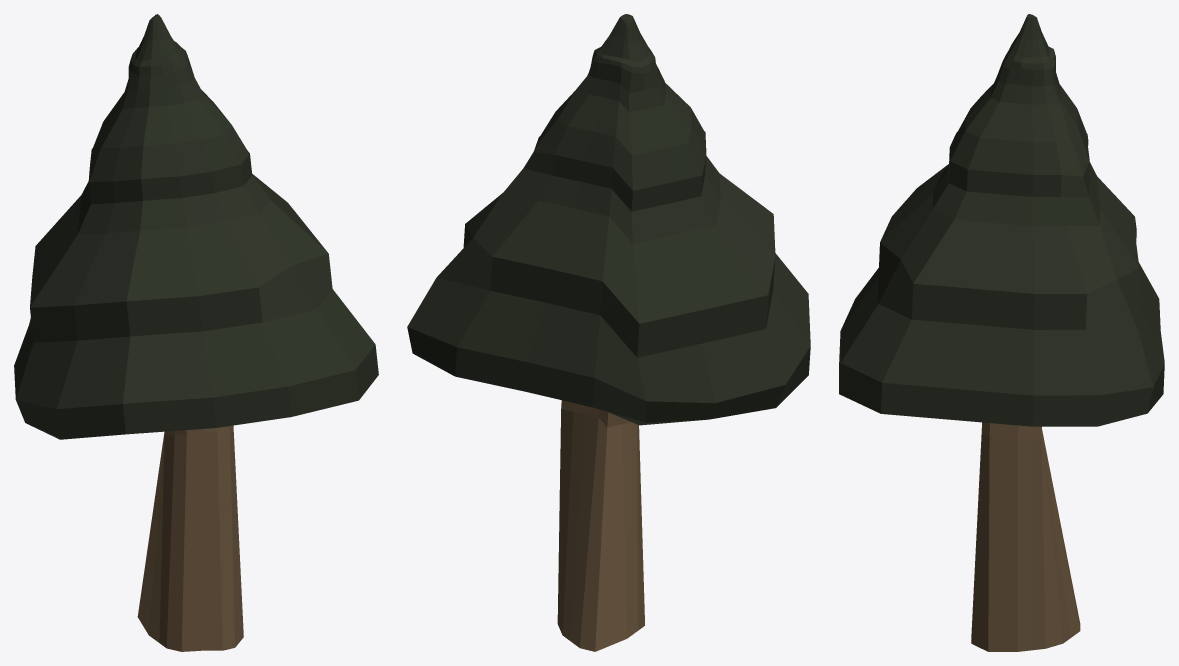
The model's file is Pine_Tree.fbx.
The picture shows the model from 3 angles, left to right: view 1: azimuth 30°, elevation 25°; view 2: azimuth 150°, elevation 25°; view 3: azimuth 270°, elevation 25°; orthographic projection. The views are drawn at different scales.
Parts seen in each view (by area): view 1: Pine Tree 1; view 2: Pine Tree 1; view 3: Pine Tree 1.
Part boxes in pixels (x1,y1,x2,y2): Pine Tree 1: (14, 14, 378, 651); Pine Tree 1: (407, 14, 810, 651); Pine Tree 1: (839, 14, 1164, 651).
Size of the model in its own units: 12.97 by 23.85 by 11.64.
